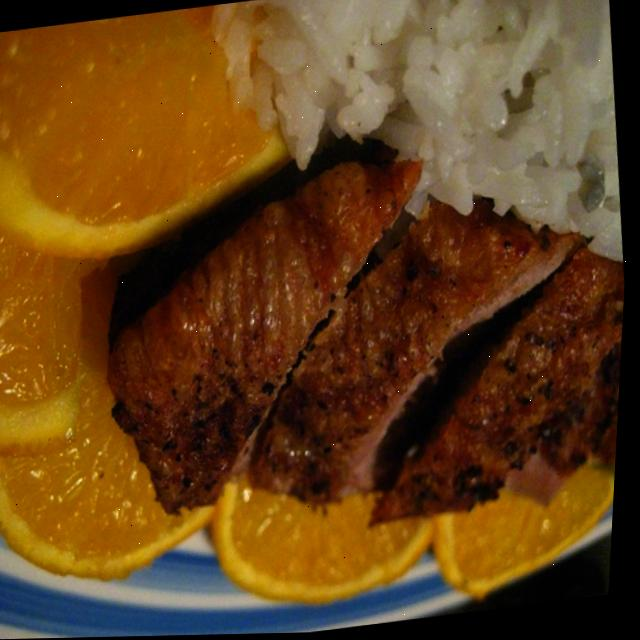米饭主食: (0, 0, 640, 629)
